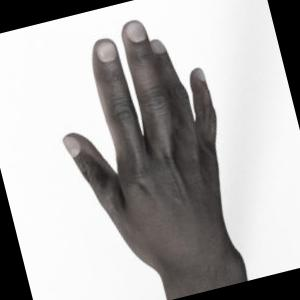paper: (64, 21, 247, 300)
